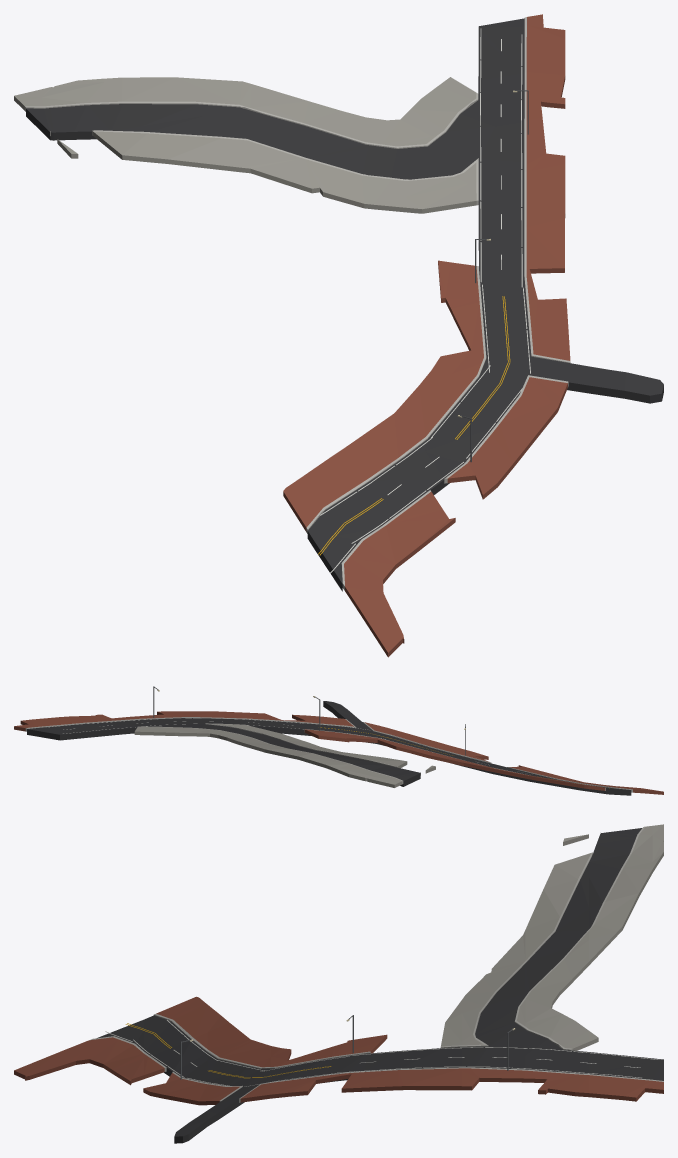
3 views of the same model, one above another, from view 1: azimuth 30°, elevation 25°; view 2: azimuth 150°, elevation 25°; view 3: azimuth 270°, elevation 25° (orthographic). The views are drawn at different scales.
Size of the model in its own units: 85.34 by 43.41 by 102.
